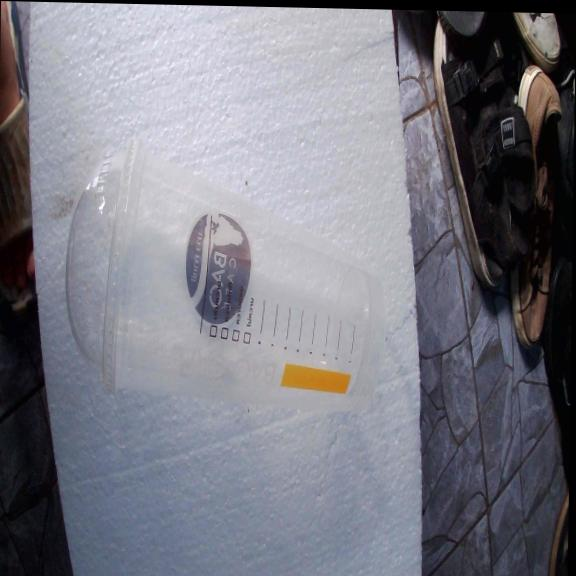Plastik: (66, 141, 370, 407)
